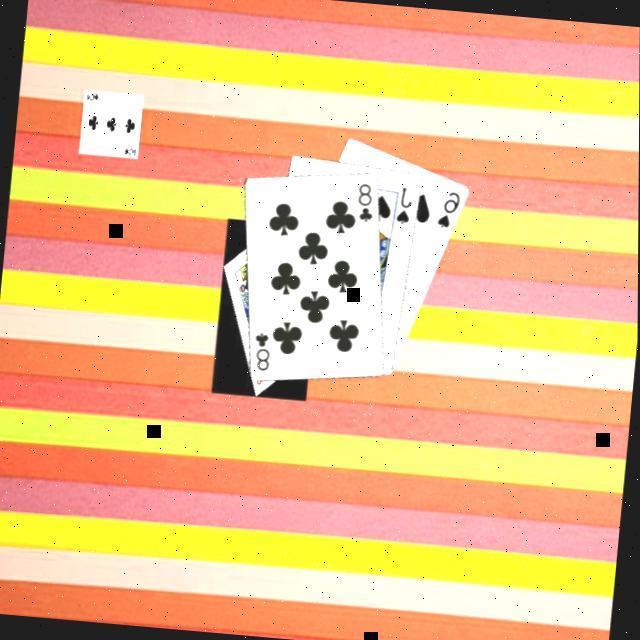6S: (432, 187, 462, 230)
8C: (351, 178, 377, 224), (247, 327, 273, 372)
JS: (391, 182, 415, 226)
